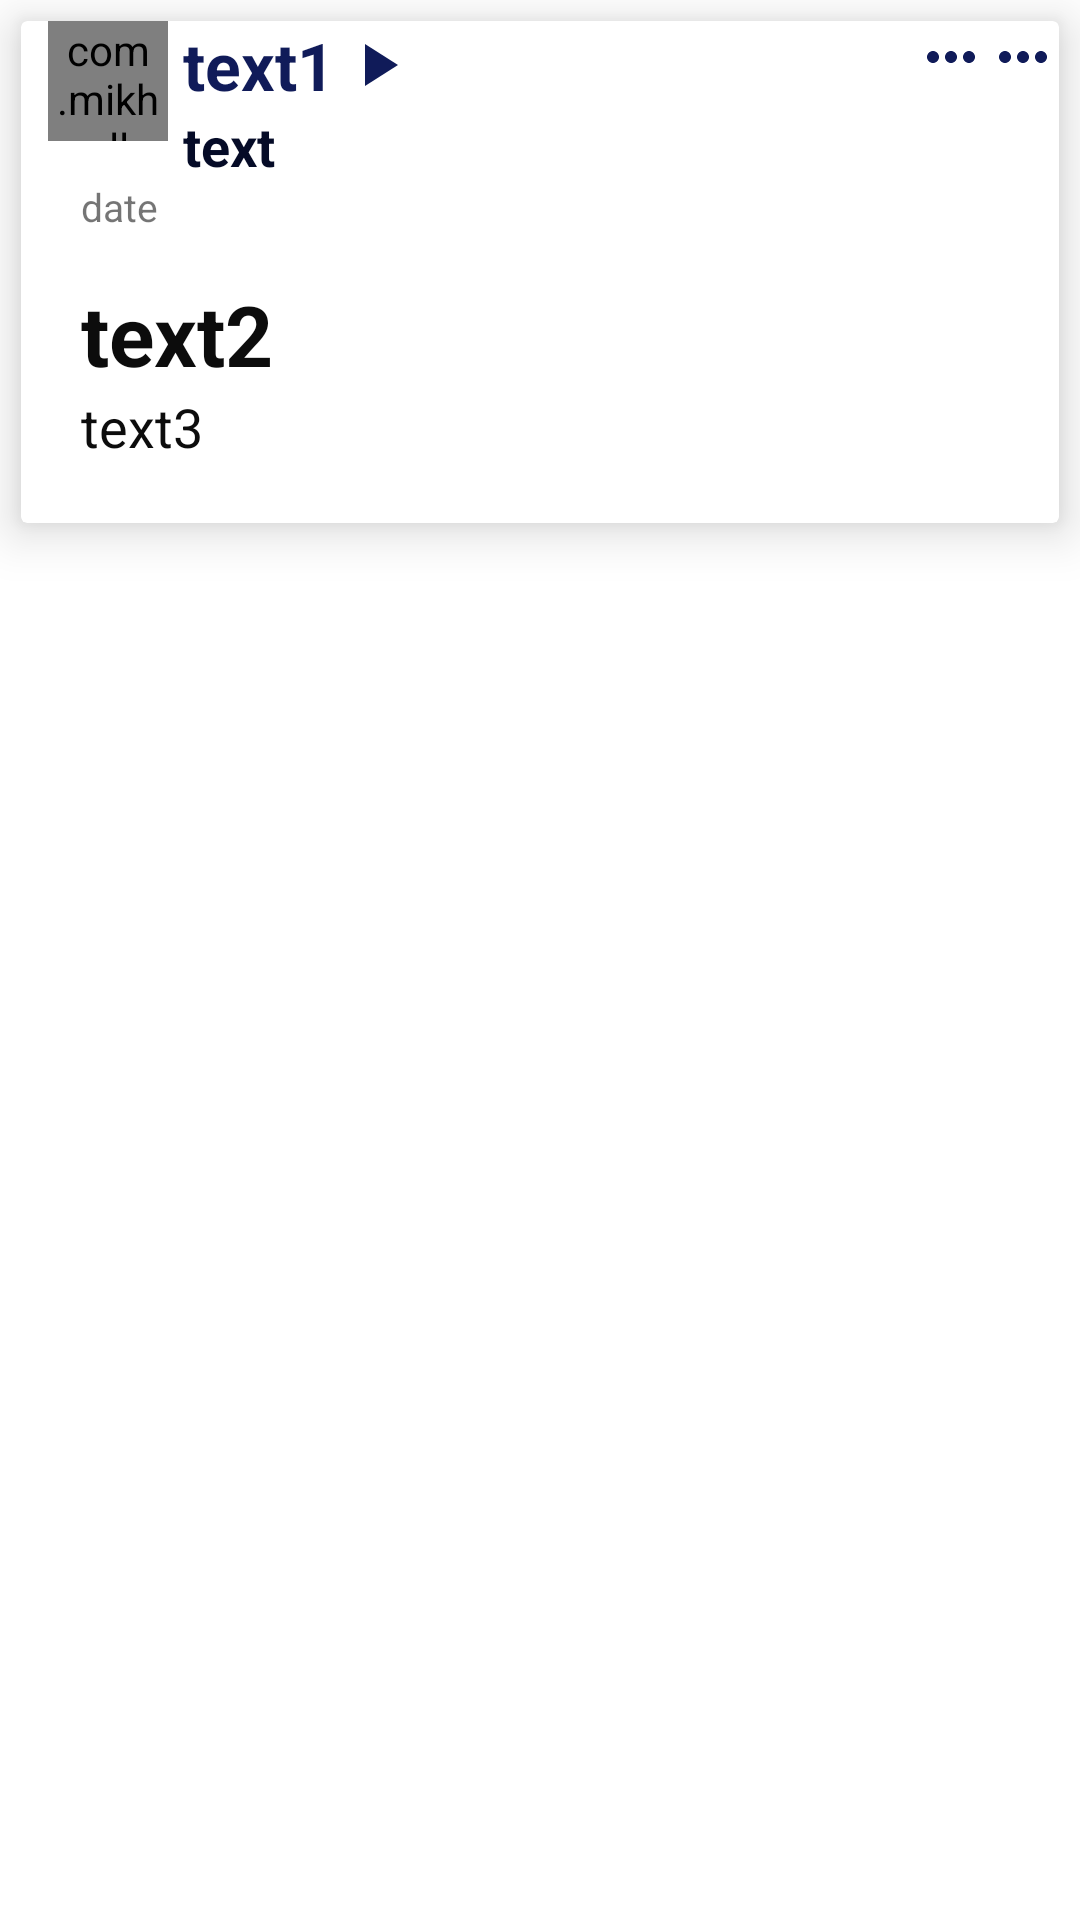

Named icons in this screenshot (1080 × 1920) and their centers, point (x, y):
more horiz: point (951, 57), point (1023, 57)
